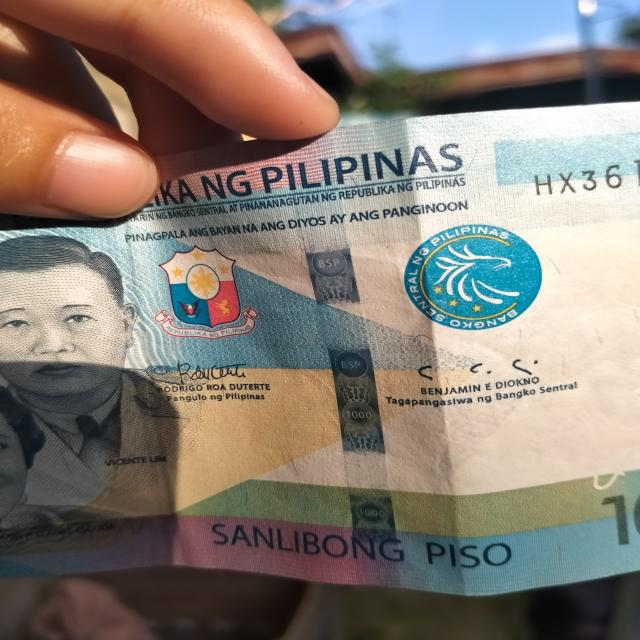security_thread: (278, 129, 402, 591)
see_through_mark: (580, 442, 640, 499)
